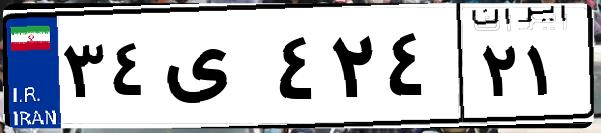1: (525, 38, 570, 115)
2: (330, 28, 385, 110), (475, 38, 525, 113)
3: (57, 26, 110, 100)
4: (270, 28, 330, 110), (385, 28, 445, 110), (110, 28, 158, 98)
ی: (158, 20, 270, 120)
